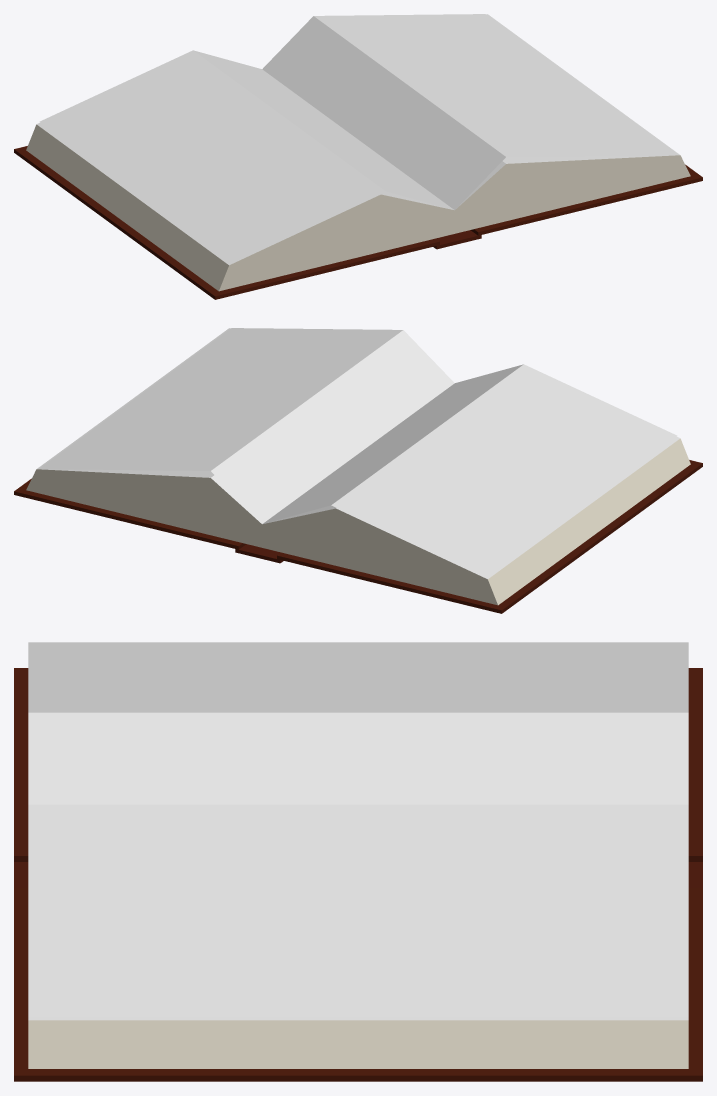
File: book.fbx
The picture shows the model from 3 angles, top to bottom: view 1: azimuth 30°, elevation 25°; view 2: azimuth 150°, elevation 25°; view 3: azimuth 270°, elevation 25°; orthographic projection. The views are drawn at different scales.
Visible parts, largest first — view 1: jobb_oldali_lapok.001, bal_oldali_lapok.002, jobb fedlap; view 2: jobb_oldali_lapok.001, bal_oldali_lapok.002, jobb fedlap; view 3: jobb_oldali_lapok.001, bal_oldali_lapok.002, jobb fedlap.
Boxes of the visible parts, x1,y1,x2,y2 form: jobb_oldali_lapok.001: (262, 14, 677, 209); bal_oldali_lapok.002: (39, 50, 453, 262); jobb fedlap: (14, 14, 702, 299); jobb_oldali_lapok.001: (39, 328, 454, 523); bal_oldali_lapok.002: (263, 364, 677, 576); jobb fedlap: (14, 328, 702, 613); jobb_oldali_lapok.001: (28, 804, 688, 1016); bal_oldali_lapok.002: (28, 642, 688, 804); jobb fedlap: (14, 668, 702, 1081).
Bounding box in the file's own units: 43.4 × 6.06 × 31.
